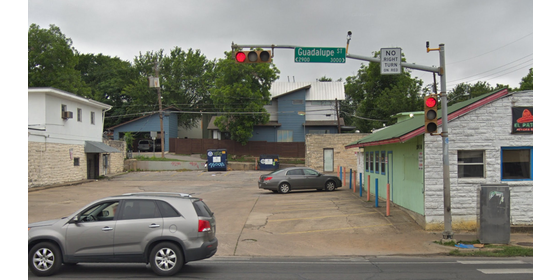no right turn on red sign: (378, 44, 403, 76)
street name sign: (292, 44, 349, 65)
